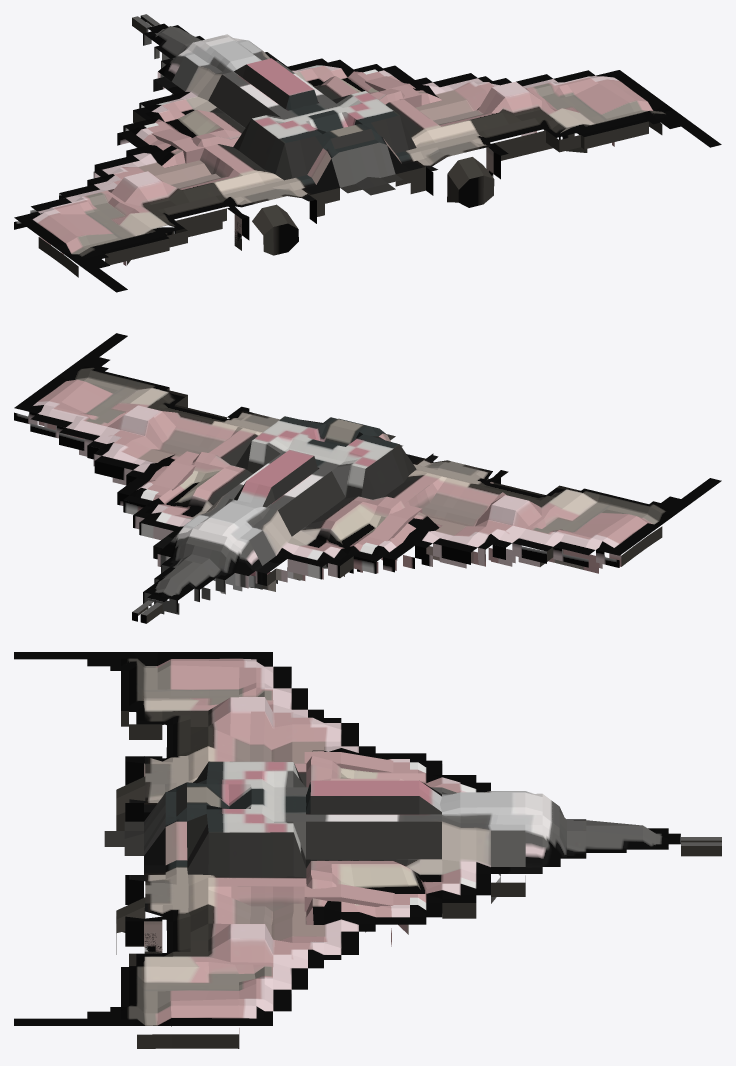
The model's file is ship2.fbx.
The picture shows the model from 3 angles, top to bottom: view 1: azimuth 30°, elevation 25°; view 2: azimuth 150°, elevation 25°; view 3: azimuth 270°, elevation 25°; orthographic projection. The views are drawn at different scales.
Visible parts, largest first — view 1: Plane.002; view 2: Plane.002; view 3: Plane.002.
Boxes of the visible parts, <box> form: Plane.002: <box>14,14,721,292</box>; Plane.002: <box>14,333,721,623</box>; Plane.002: <box>14,652,721,1048</box>.
Size of the model in its own units: 252 by 35.58 by 201.
